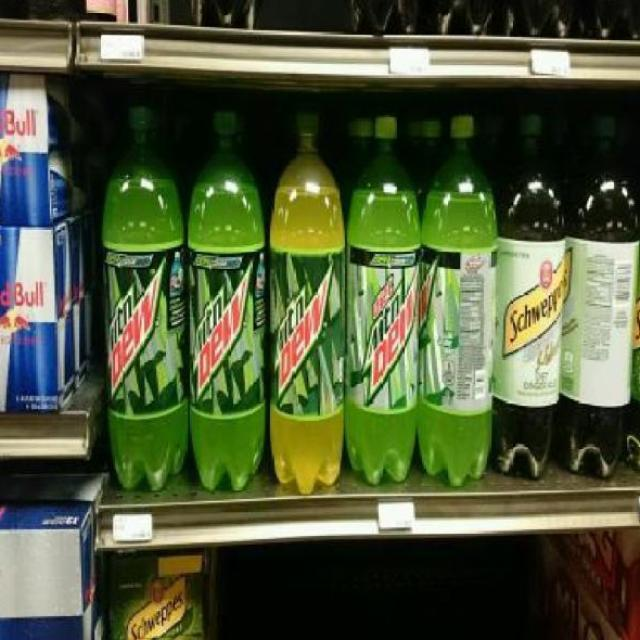Drinks: (102, 103, 187, 492), (185, 108, 266, 492), (270, 110, 345, 495), (421, 115, 498, 487), (347, 115, 420, 485)
